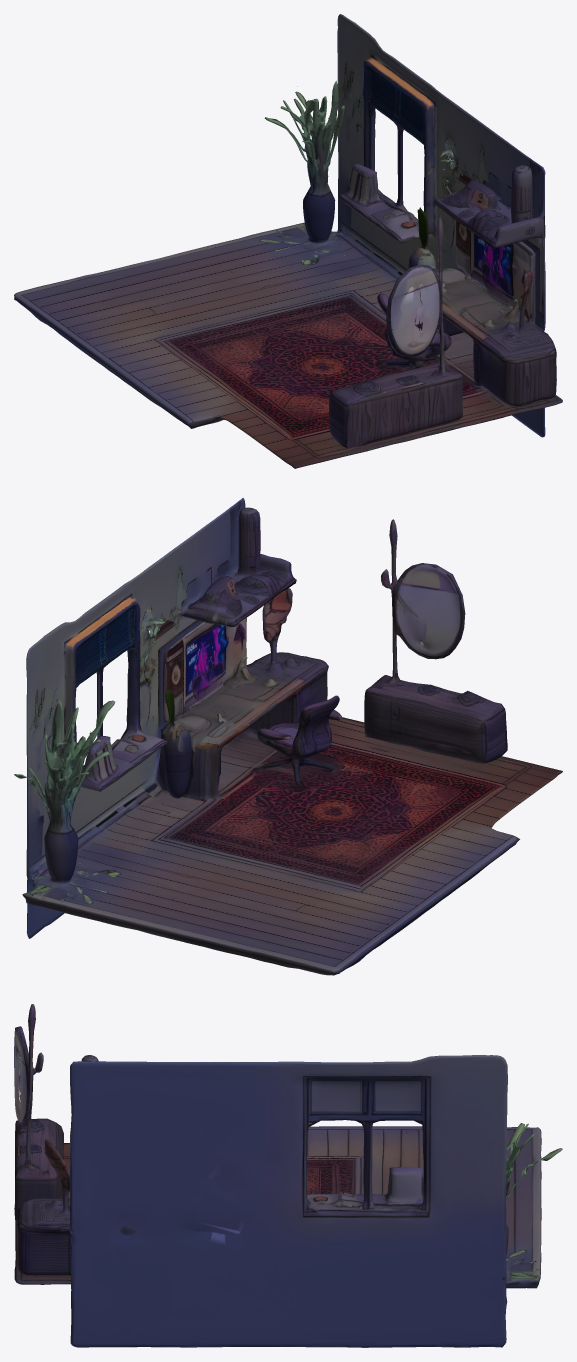
Rendered from computer desk 3d model.glb.
3 views of the same model, one above another, from view 1: azimuth 30°, elevation 25°; view 2: azimuth 150°, elevation 25°; view 3: azimuth 270°, elevation 25° (orthographic). The views are drawn at different scales.
Parts seen in each view (by area): view 1: tripo_node_d6018c49; view 2: tripo_node_d6018c49; view 3: tripo_node_d6018c49.
Part boxes in pixels (x1,y1,x2,y2): tripo_node_d6018c49: [14, 14, 562, 468]; tripo_node_d6018c49: [14, 498, 562, 975]; tripo_node_d6018c49: [14, 1004, 562, 1347].
Size of the model in its own units: 68.64 by 58.44 by 99.29.
1 material, 1 textured.
